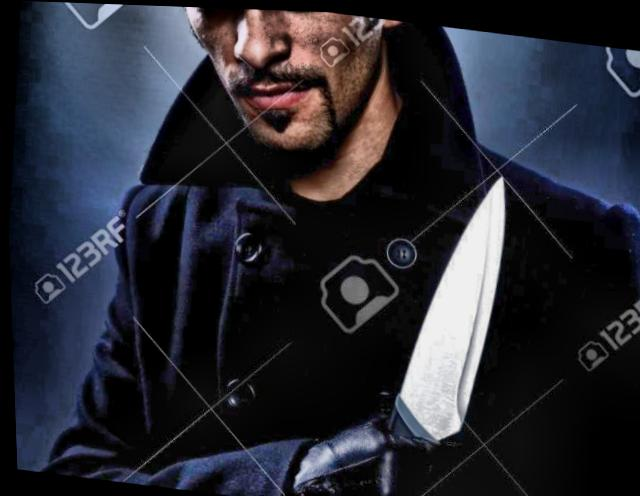knife: (369, 146, 523, 464)
